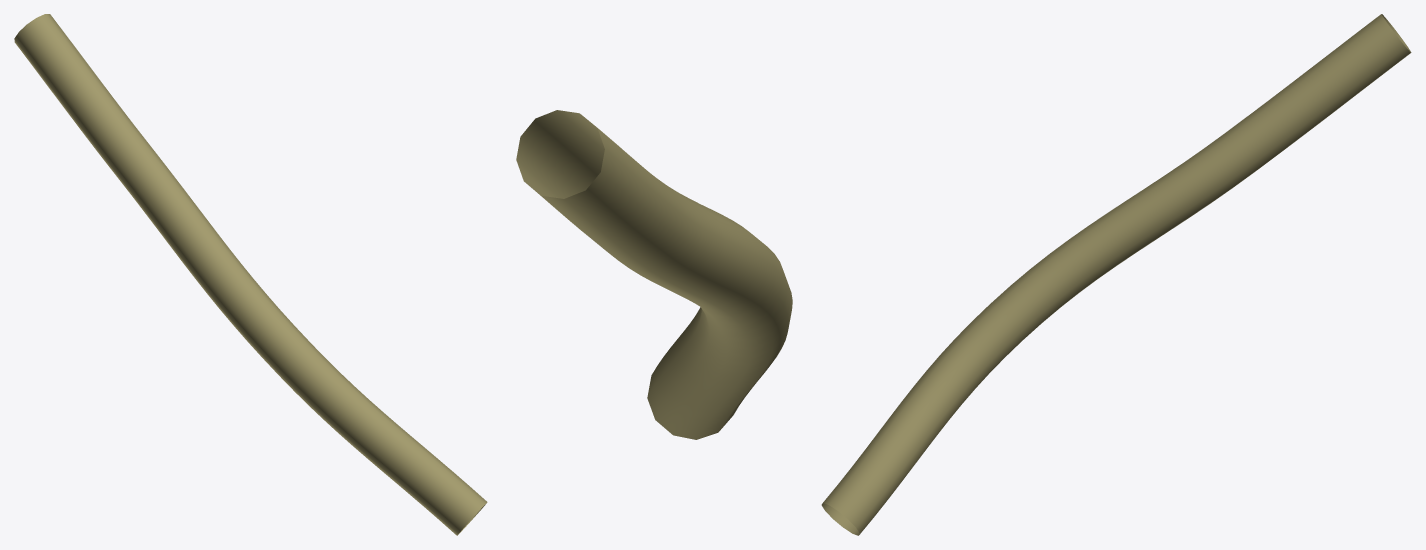
Rendered from Ejaculatory_duct_right.glb.
3 views of the same model, side by side, from view 1: azimuth 30°, elevation 25°; view 2: azimuth 150°, elevation 25°; view 3: azimuth 270°, elevation 25° (orthographic). The views are drawn at different scales.
Parts seen in each view (by area): view 1: Ejaculatory_duct.r_BezierCurve.284; view 2: Ejaculatory_duct.r_BezierCurve.284; view 3: Ejaculatory_duct.r_BezierCurve.284.
Part boxes in pixels (bbox=[...]): Ejaculatory_duct.r_BezierCurve.284: bbox=[14, 14, 487, 535]; Ejaculatory_duct.r_BezierCurve.284: bbox=[516, 110, 792, 439]; Ejaculatory_duct.r_BezierCurve.284: bbox=[821, 14, 1411, 535].
Size of the model in its own units: 0.00904 by 0.0149 by 0.0188.
